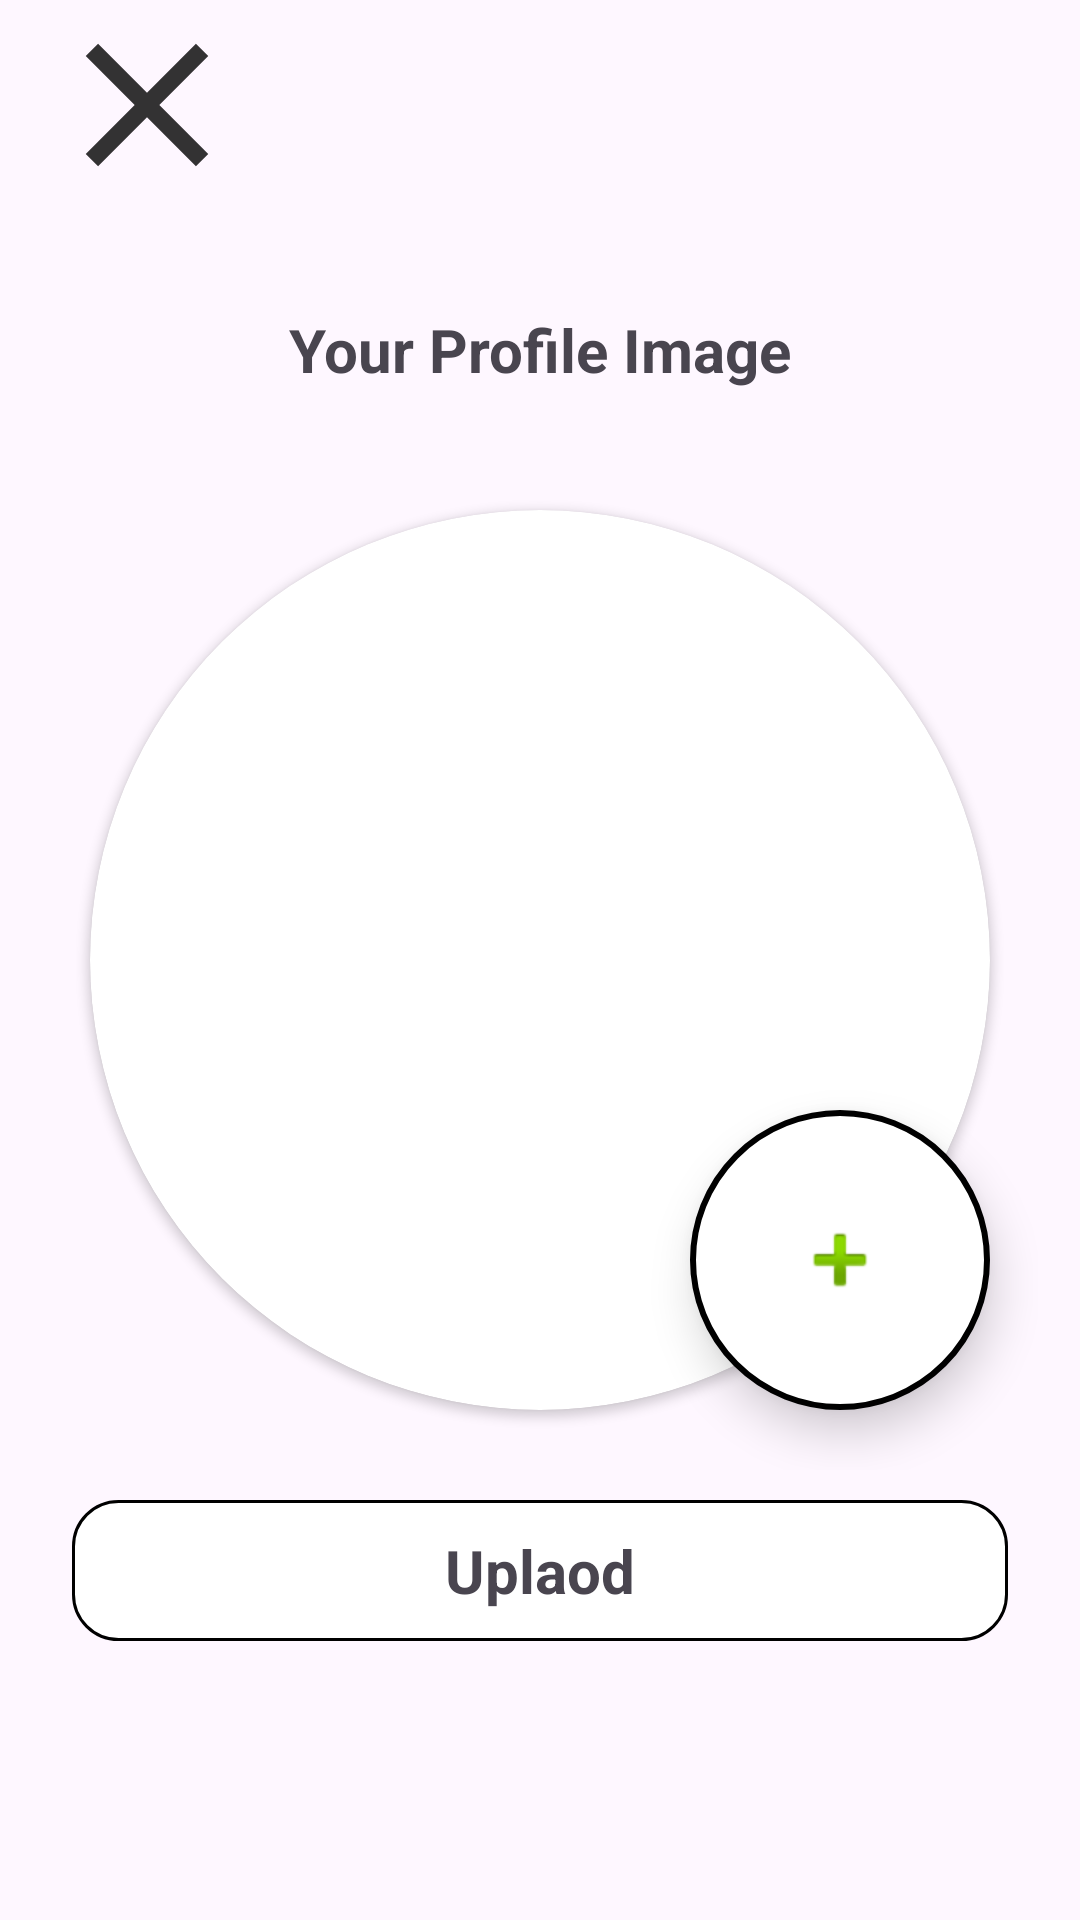

Icons on this 1080 x 1920 Android screen, each with the point to tap as (x,y):
add: (840,1260)
close: (147,105)
